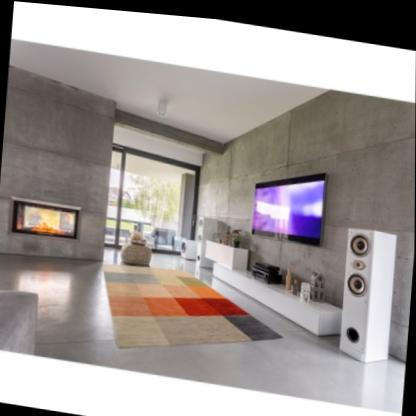Carpet: (103, 262, 279, 348)
Ceramic floor: (77, 277, 406, 410)
